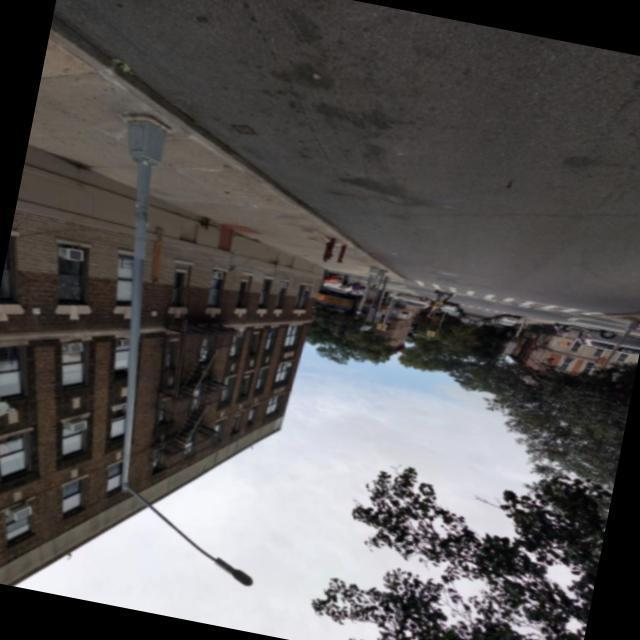off: (191, 511, 271, 611)
